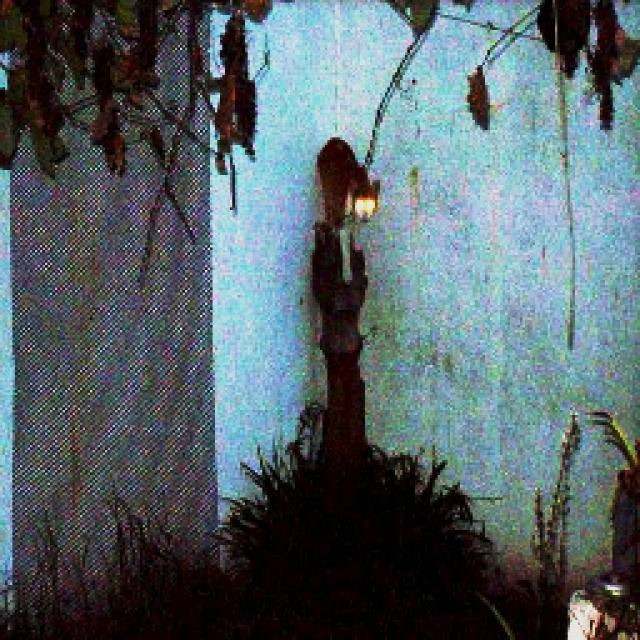cat: (312, 134, 383, 290)
